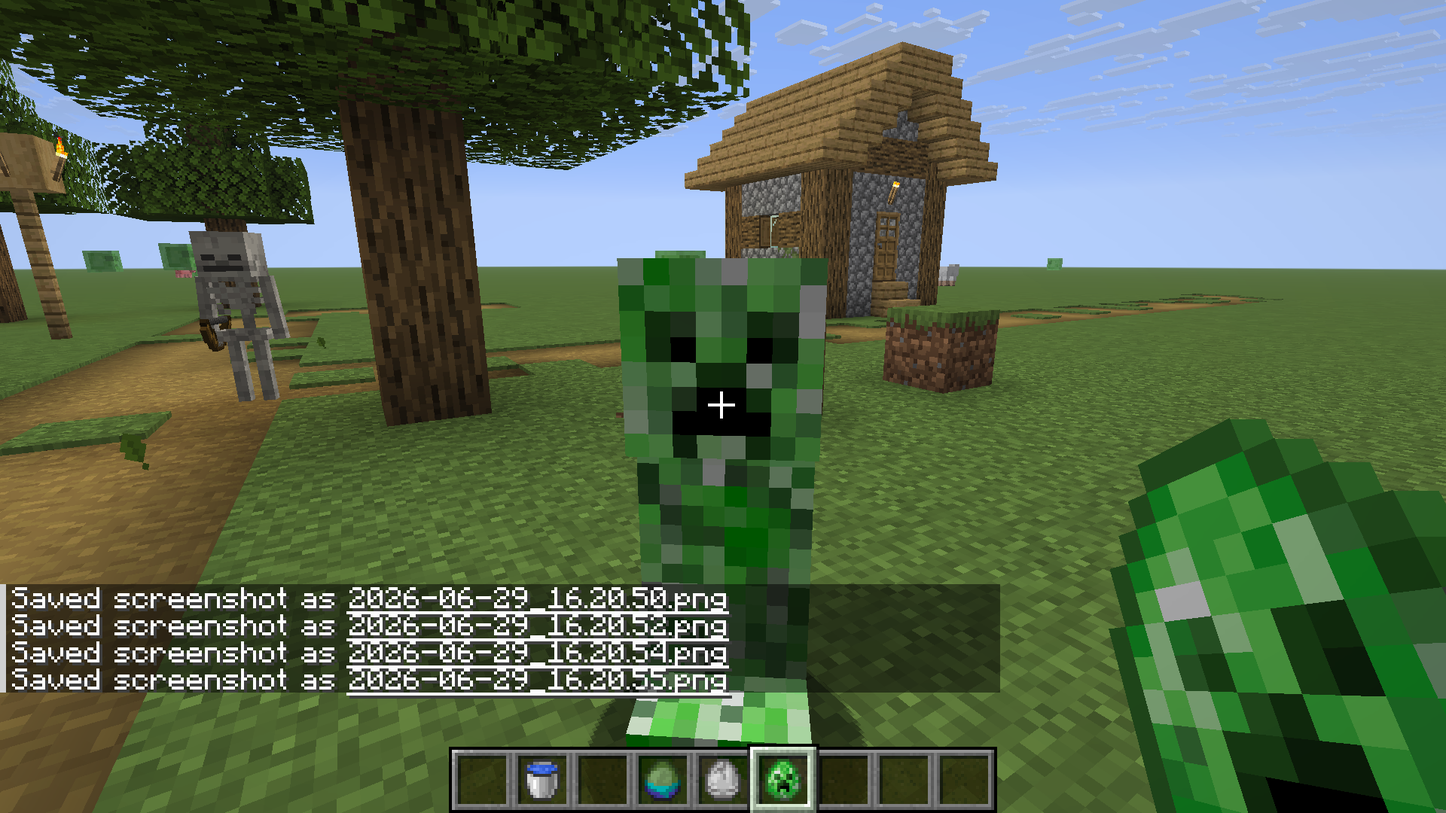creeper: (615, 259, 839, 578)
skeleton: (184, 225, 318, 428)
